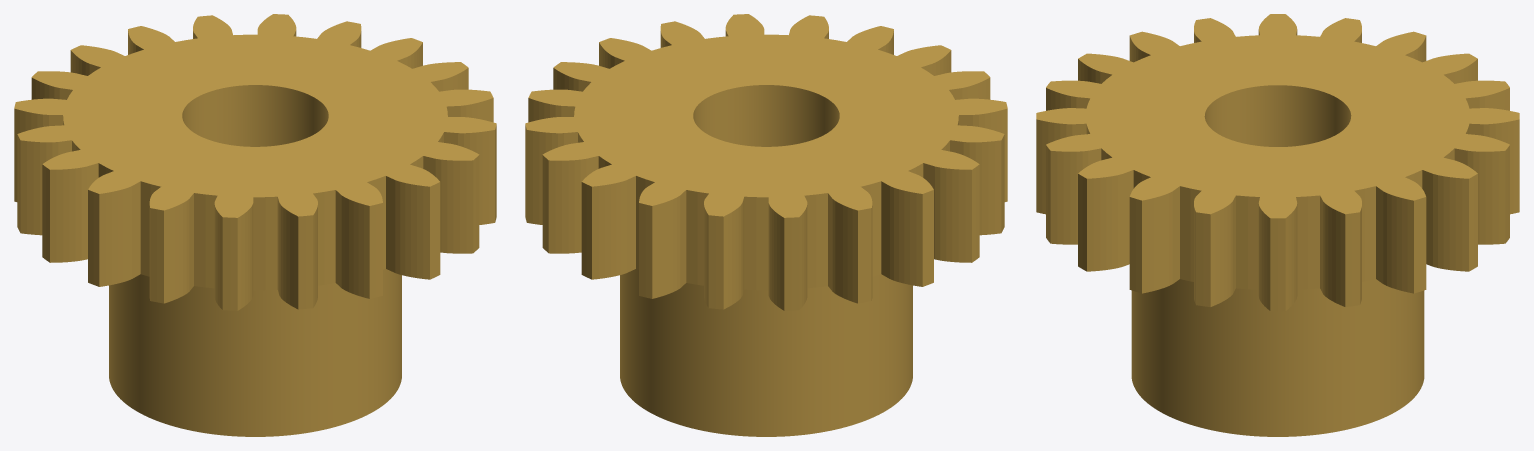
Rendered from gear_m03_z20_753020.glb.
3 views of the same model, side by side, from view 1: azimuth 30°, elevation 25°; view 2: azimuth 150°, elevation 25°; view 3: azimuth 270°, elevation 25° (orthographic).
Visible parts, largest first — view 1: gear; view 2: gear; view 3: gear.
Boxes of the visible parts, x1,y1,x2,y2 form: gear: [14, 14, 496, 436]; gear: [525, 14, 1007, 436]; gear: [1036, 14, 1519, 436].
Bounding box in the file's own units: 0.0066 × 0.0039 × 0.0066.
